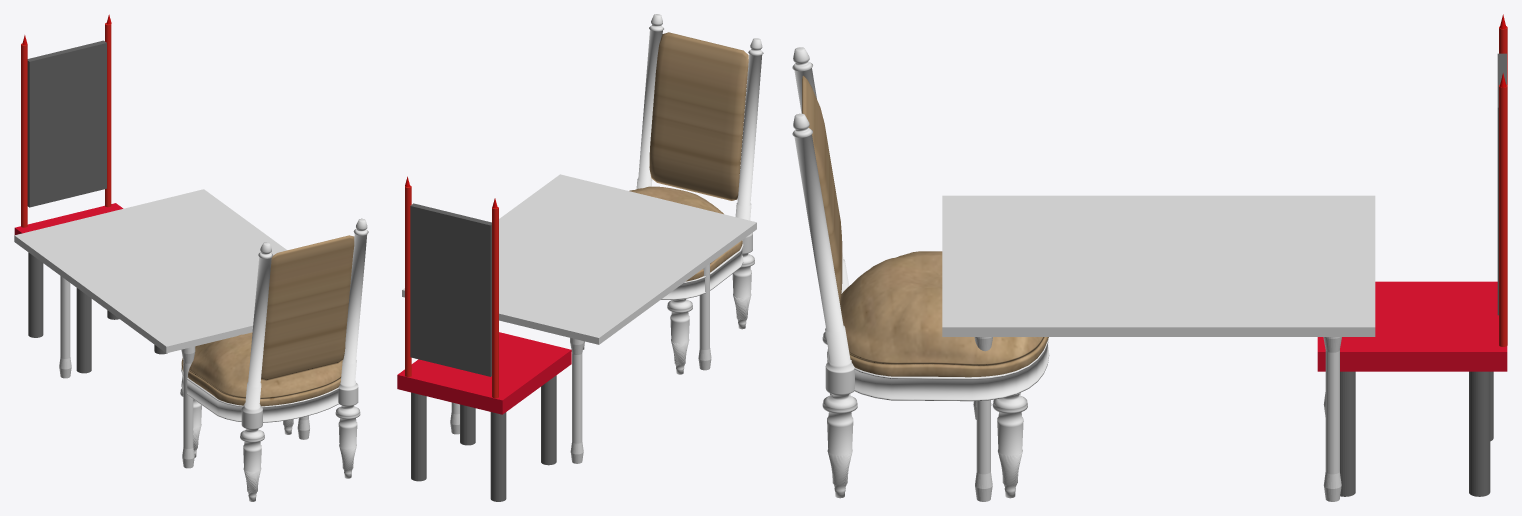
Rendered from mesa2.fbx.
The picture shows the model from 3 angles, left to right: view 1: azimuth 30°, elevation 25°; view 2: azimuth 150°, elevation 25°; view 3: azimuth 270°, elevation 25°; orthographic projection. The views are drawn at different scales.
Visible parts, largest first — view 1: Cube.006, Cylinder.047, Cylinder.025; view 2: Cube.006, Cylinder.025, Cylinder.047; view 3: Cube.006, Cylinder.047, Cylinder.025.
Part boxes in pixels (x1,y1,x2,y2): Cube.006: (14,189,309,468); Cylinder.047: (180,218,368,501); Cylinder.025: (14,14,167,373); Cube.006: (402,174,756,463); Cylinder.025: (397,176,571,501); Cylinder.047: (583,14,763,374); Cube.006: (942,195,1375,501); Cylinder.047: (792,47,1049,498); Cylinder.025: (1317,14,1507,496).
Size of the model in its own units: 648 by 967 by 1488.
